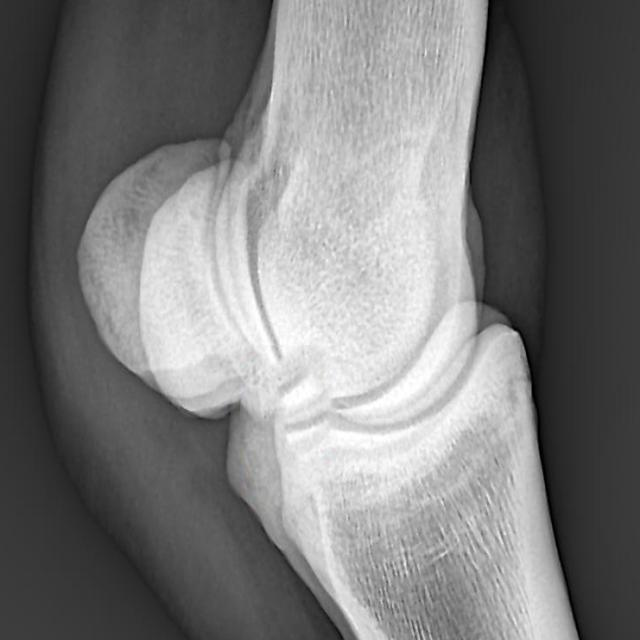bone remodeling: (176, 319, 361, 544)
